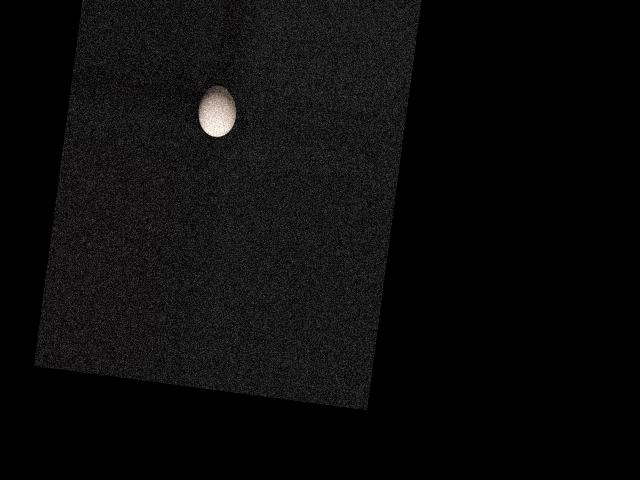egg: (195, 83, 239, 139)
